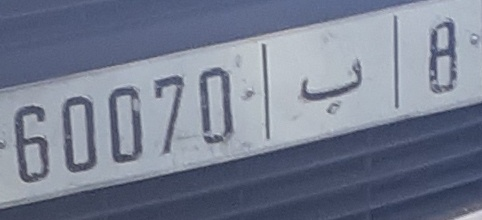0: (196, 67, 236, 147), (60, 93, 99, 175), (106, 85, 145, 165)
6: (14, 103, 51, 185)
7: (153, 74, 186, 156)
8: (426, 15, 460, 96)
b: (299, 56, 364, 118)
